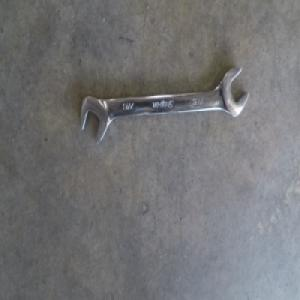Wrench: (84, 62, 243, 138)
